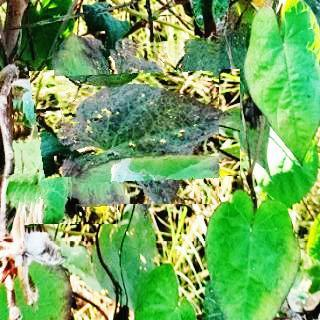leaf spot: (55, 41, 219, 204), (13, 57, 117, 224)
